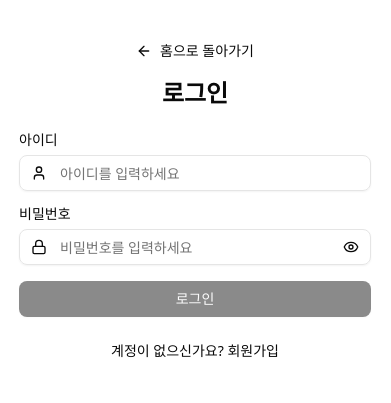
Test: LoginPage › 비밀번호 최소 길이 validation 테스트
In the password field labelled "비밀번호": (195, 247) 19,229 -> 371,265, type "12345"
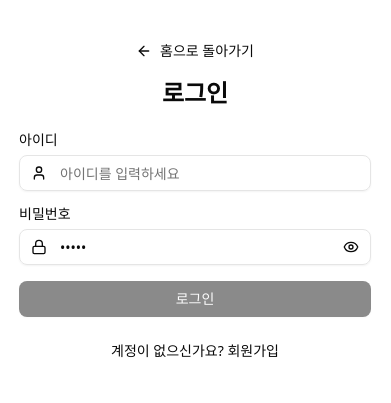
Click the button "로그인": (195, 299) 19,281 -> 371,317
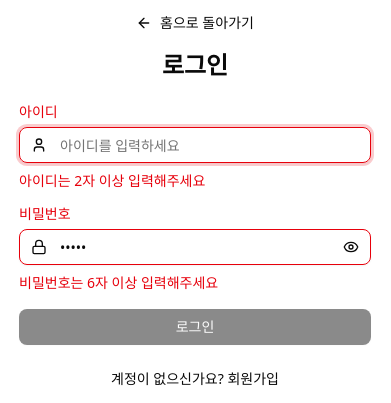
expect the text "비밀번호는 6자 이상 입력해주세요" is shown: met, box 19,273 -> 218,292
